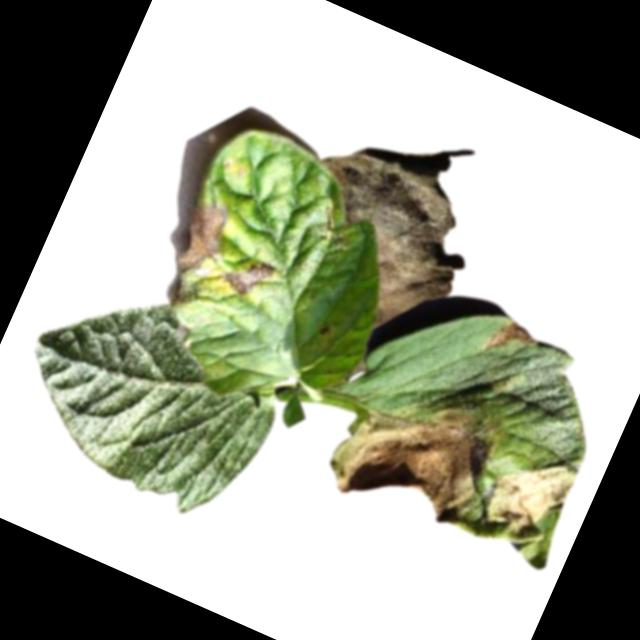Late_blight: (269, 134, 490, 351), (320, 353, 516, 544), (477, 440, 581, 553), (168, 191, 245, 287), (220, 248, 278, 304), (483, 312, 539, 364), (171, 277, 204, 311), (315, 320, 334, 340)
